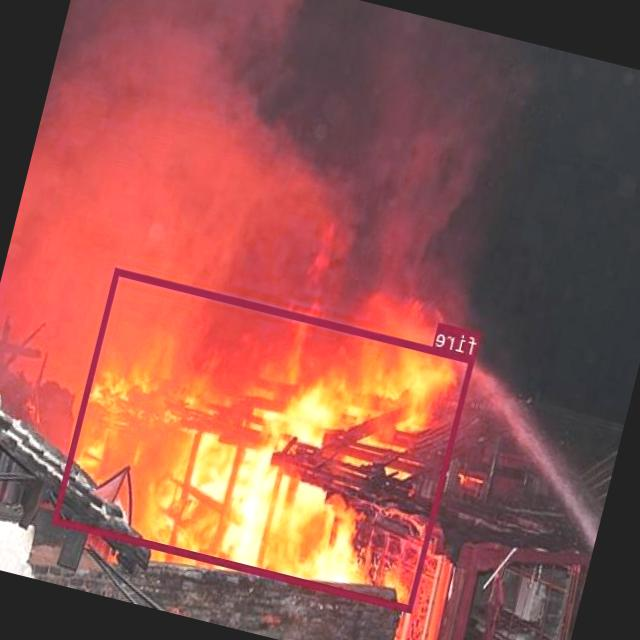fire: (51, 267, 476, 612)
